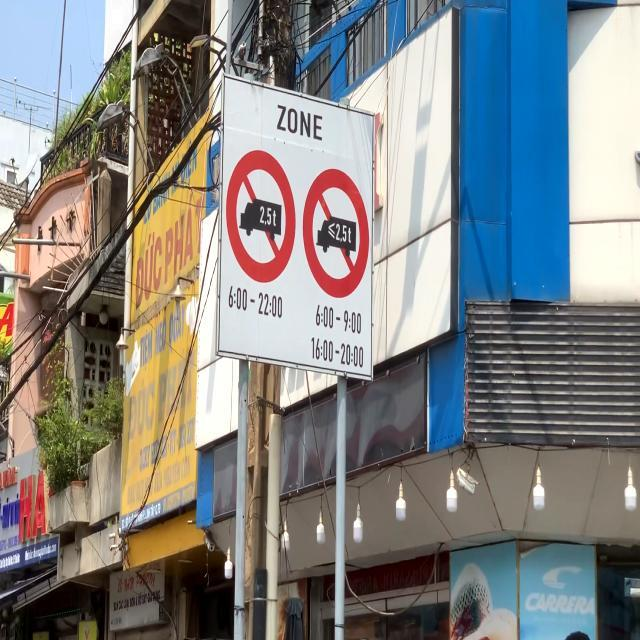P-106b: (226, 149, 296, 284), (302, 168, 370, 299)
